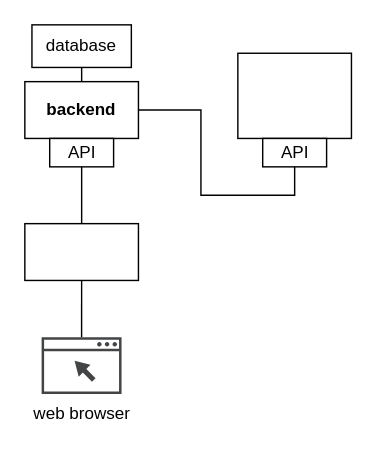
This 376x449 diagram has some shape labels left out. The box of each missing label's shape, as (x1, y1, x2, y2) in pixels:
frontend: (23, 222, 138, 280)
image analyisis service: (236, 52, 351, 138)
